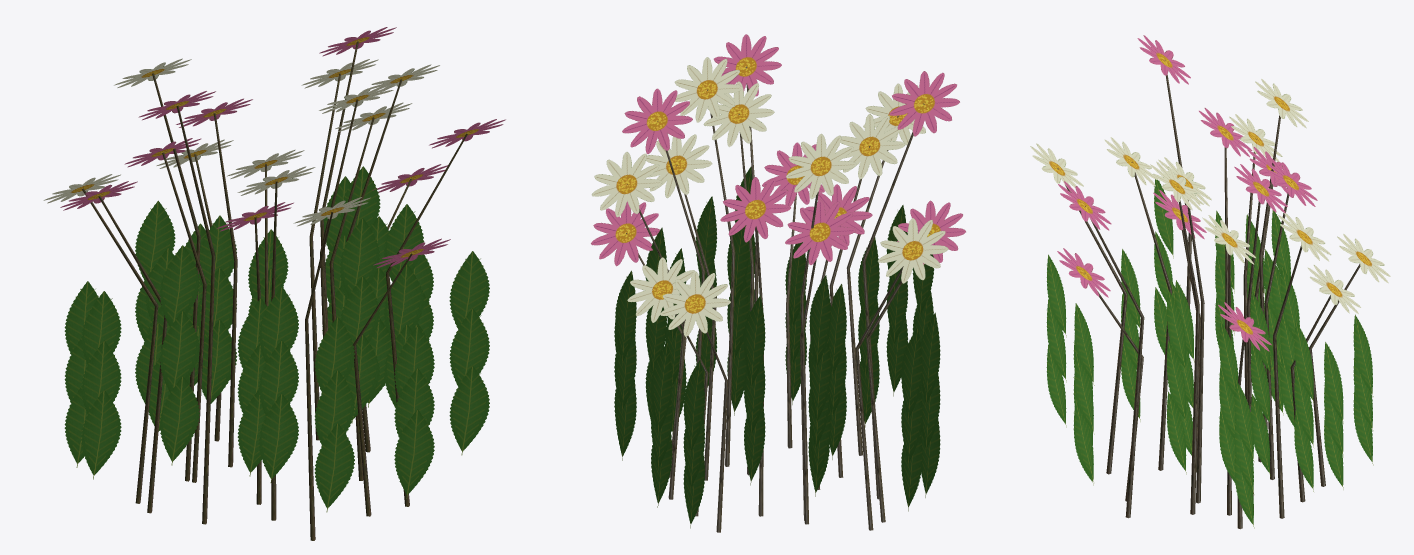
The model's file is flowers.gltf.
The picture shows the model from 3 angles, left to right: view 1: azimuth 30°, elevation 25°; view 2: azimuth 150°, elevation 25°; view 3: azimuth 270°, elevation 25°; orthographic projection. The views are drawn at different scales.
Bounding box in the file's own units: 0.937 × 1 × 0.8625.
Materials: 2 (2 with a texture image).
